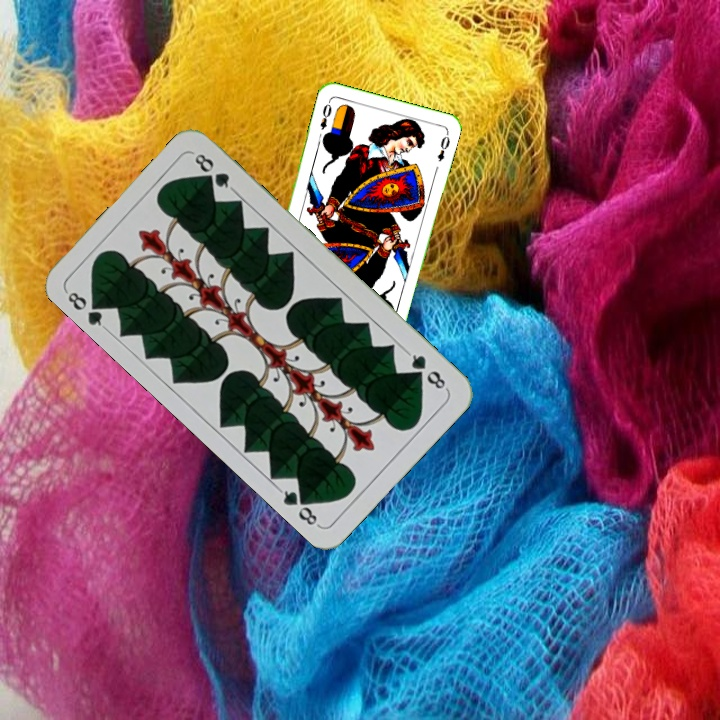EO: (316, 96, 334, 132)
G8: (62, 286, 109, 333), (403, 348, 450, 393)
